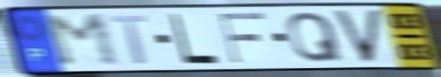F: (217, 11, 267, 65)
L: (168, 12, 221, 66)
M: (40, 12, 124, 69)
Q: (285, 10, 346, 65)
T: (106, 14, 150, 66)
V: (329, 7, 385, 66)
